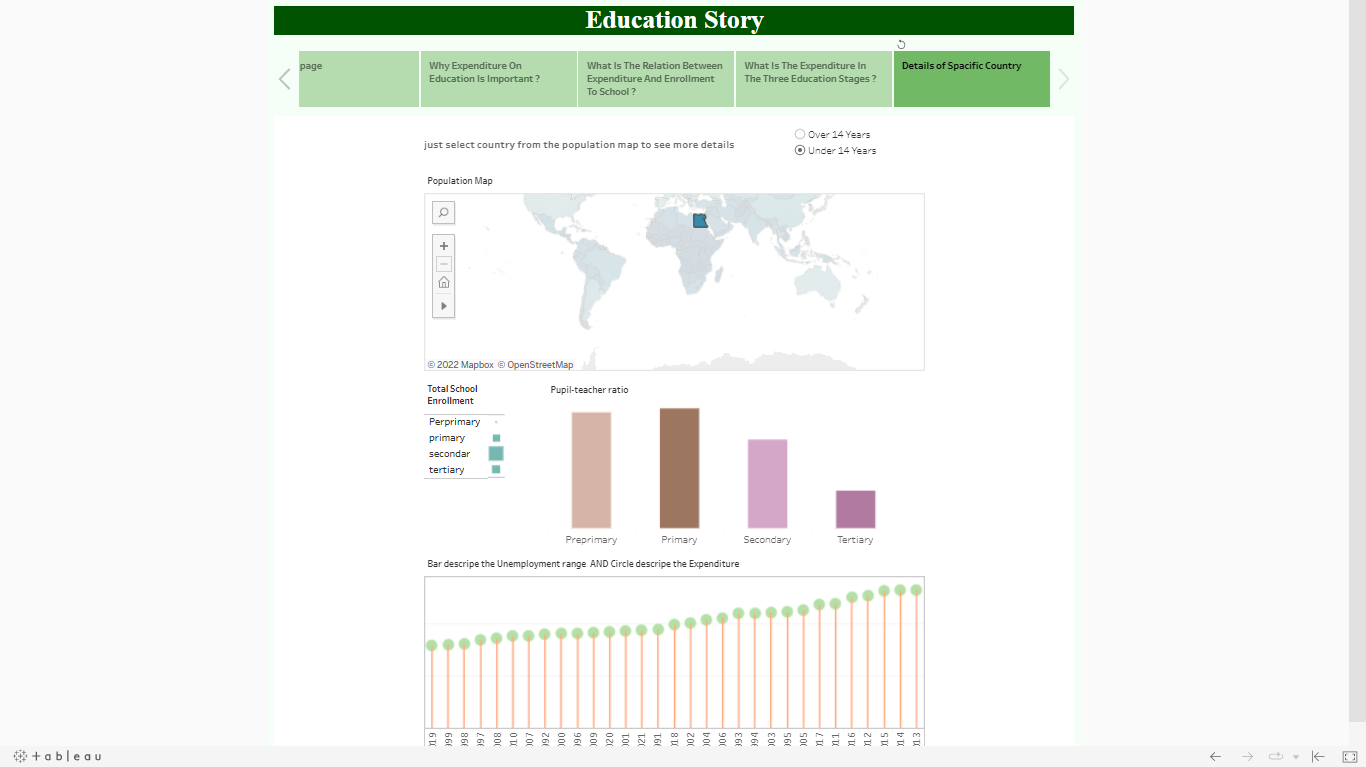

The page's visual inventory and layout, read from the dashboard file:
{"tool":"tableau","page":{"name":"4","canvas":[650,860],"ordinal":3},"visuals":[{"type":"text","box":[8,9.3,459,60.6]},{"type":"parameter","param":"[Parameters].[Parameter 2]","box":[467,9.3,175,60.6]},{"type":"worksheet","title":"Population Map","mark":"Multipolygon","box":[8,69.9,634,273.3]},{"type":"worksheet","title":"Sheet 13","mark":"Automatic","box":[8,343.2,154,230.3]},{"type":"worksheet","title":"Pupil-teacher ratio","mark":"Automatic","cols":["Country Name"],"box":[162,343.2,448,230.3]},{"type":"worksheet","title":"Unemploy-Expen-ratio","mark":"Bar","rows":["Unemployment, total (% of total labor force) (modeled ILO es","Unemployment, total (% of total labor force) (modeled ILO es"],"cols":["Country Name","Year"],"box":[8,573.5,634,277.2]}]}

Visuals, with their boxes on the page's 650x860 design canvas (x1, y1, x2, y2). These are canvas units, not pixel positions in the 1366x768 screenshot, which may show the page scaled, cropped or inside an application window:
text: left=8, top=9, right=467, bottom=70
parameter: left=467, top=9, right=642, bottom=70
"Population Map" worksheet (Multipolygon marks): left=8, top=70, right=642, bottom=343
"Sheet 13" worksheet: left=8, top=343, right=162, bottom=574
"Pupil-teacher ratio" worksheet: left=162, top=343, right=610, bottom=574
"Unemploy-Expen-ratio" worksheet (Bar marks): left=8, top=574, right=642, bottom=851
